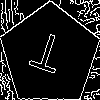T: (25, 30, 67, 83)
